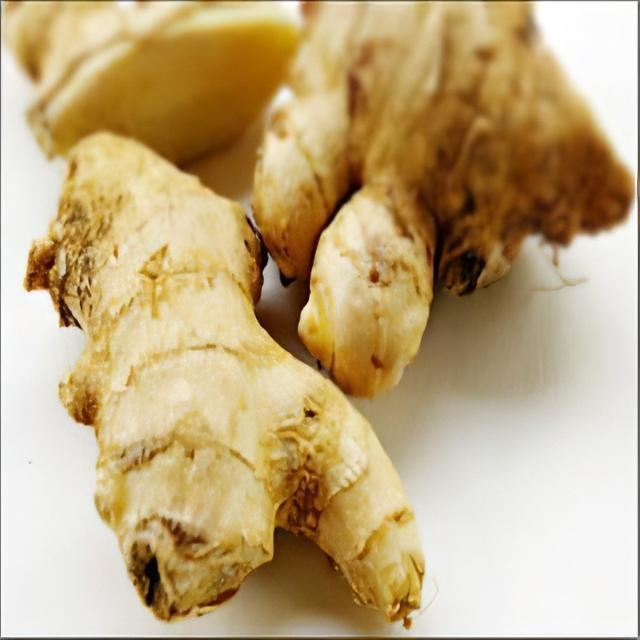ginger: (32, 149, 439, 621)
